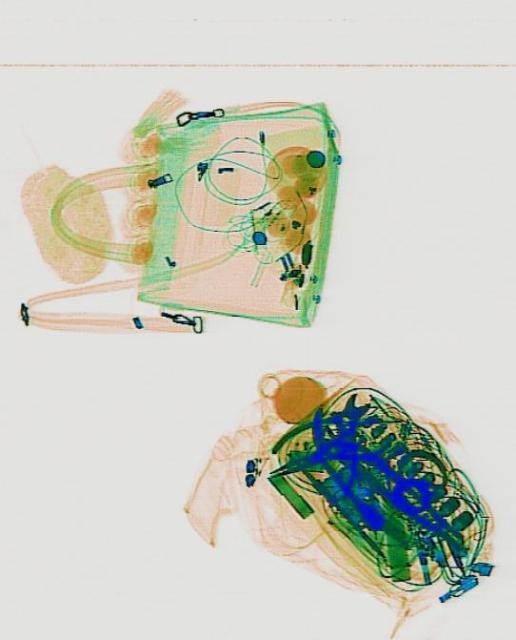Pliers: (270, 365, 391, 505), (261, 411, 388, 494)
